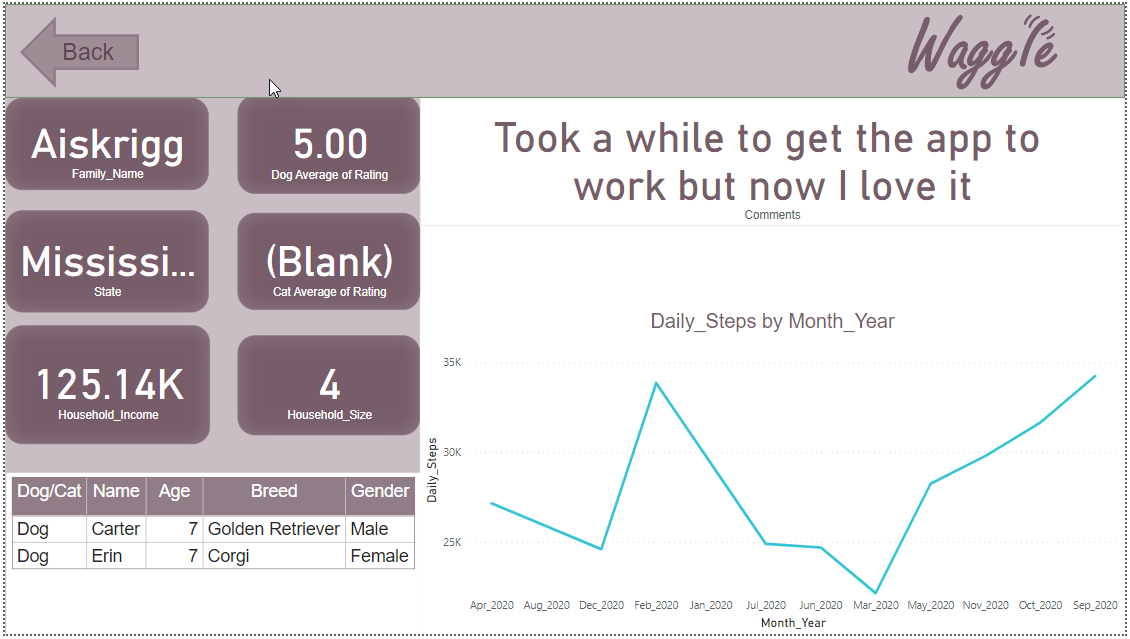

Layout of this report page (visuals, bound fields, positions):
{"tool":"powerbi","page":{"name":" Summary","canvas":[1280,720],"ordinal":3},"visuals":[{"type":"shape","box":[0,0,474.3,720],"z":0},{"type":"actionButton","box":[0,0,100,40],"z":1000},{"type":"card","fields":{"Values":["Min(Family_Data.Family_Name)"]},"box":[0,107.1,232.9,105.7],"z":2000},{"type":"card","fields":{"Values":["Min(Family_Data.State)"]},"box":[0,235.7,232.9,117.1],"z":3000},{"type":"card","fields":{"Values":["Max(Family_Data.Household_Income)"]},"box":[0,367.1,234.3,135.7],"z":4000},{"type":"card","fields":{"Values":["Max(Family_Data.Household_Size)"]},"box":[265.7,378.6,208.6,114.3],"z":5000},{"type":"tableEx","fields":{"Values":["Pet_Data.Dog/Cat","Pet_Data.Name","Pet_Data.Age","Pet_Data.Breed","Pet_Data.Gender"]},"box":[1.4,535.7,472.9,184.3],"z":6000},{"type":"lineChart","fields":{"Category":["Date_Table.Month_Year"],"Y":["Sum(Tracker_Data.Daily_Steps)"]},"box":[474.3,350,805.7,370],"z":7000},{"type":"card","fields":{"Values":["Avg(Rating_Data.Rating)"]},"box":[265.7,238.6,208.6,111.4],"z":8000},{"type":"card","fields":{"Values":["Avg(Rating_Data.Rating)"]},"box":[265.7,104.3,208.6,112.9],"z":9000},{"type":"card","fields":{"Values":["Min(Rating_Data.Comments)"]},"box":[474.3,107.1,805.7,147.1],"z":10000},{"type":"shape","title":"banner","box":[0,0,1280,107.1],"z":11000},{"type":"actionButton","title":"Home","box":[17.1,14.3,135.7,81.4],"z":12000},{"type":"image","box":[954.3,5.7,325.7,97.1],"z":13000}]}

Visuals, with their boxes in screenshot pixels (x1, y1, x2, y2), scaled from the page's 1280x720 canvas onto the 1130x639 screenshot:
shape: x1=0 y1=0 x2=419 y2=638
actionButton: x1=0 y1=0 x2=88 y2=36
card - Min(Family_Data.Family_Name): x1=0 y1=95 x2=206 y2=189
card - Min(Family_Data.State): x1=0 y1=209 x2=206 y2=313
card - Max(Family_Data.Household_Income): x1=0 y1=326 x2=207 y2=446
card - Max(Family_Data.Household_Size): x1=235 y1=336 x2=419 y2=437
tableEx - Pet_Data.Dog/Cat x Pet_Data.Name: x1=1 y1=475 x2=419 y2=638
lineChart - Date_Table.Month_Year x Sum(Tracker_Data.Daily_Steps): x1=419 y1=311 x2=1129 y2=638
card - Avg(Rating_Data.Rating): x1=235 y1=212 x2=419 y2=311
card - Avg(Rating_Data.Rating): x1=235 y1=93 x2=419 y2=193
card - Min(Rating_Data.Comments): x1=419 y1=95 x2=1129 y2=226
"banner" shape: x1=0 y1=0 x2=1129 y2=95
"Home" actionButton: x1=15 y1=13 x2=135 y2=85
image: x1=842 y1=5 x2=1129 y2=91
